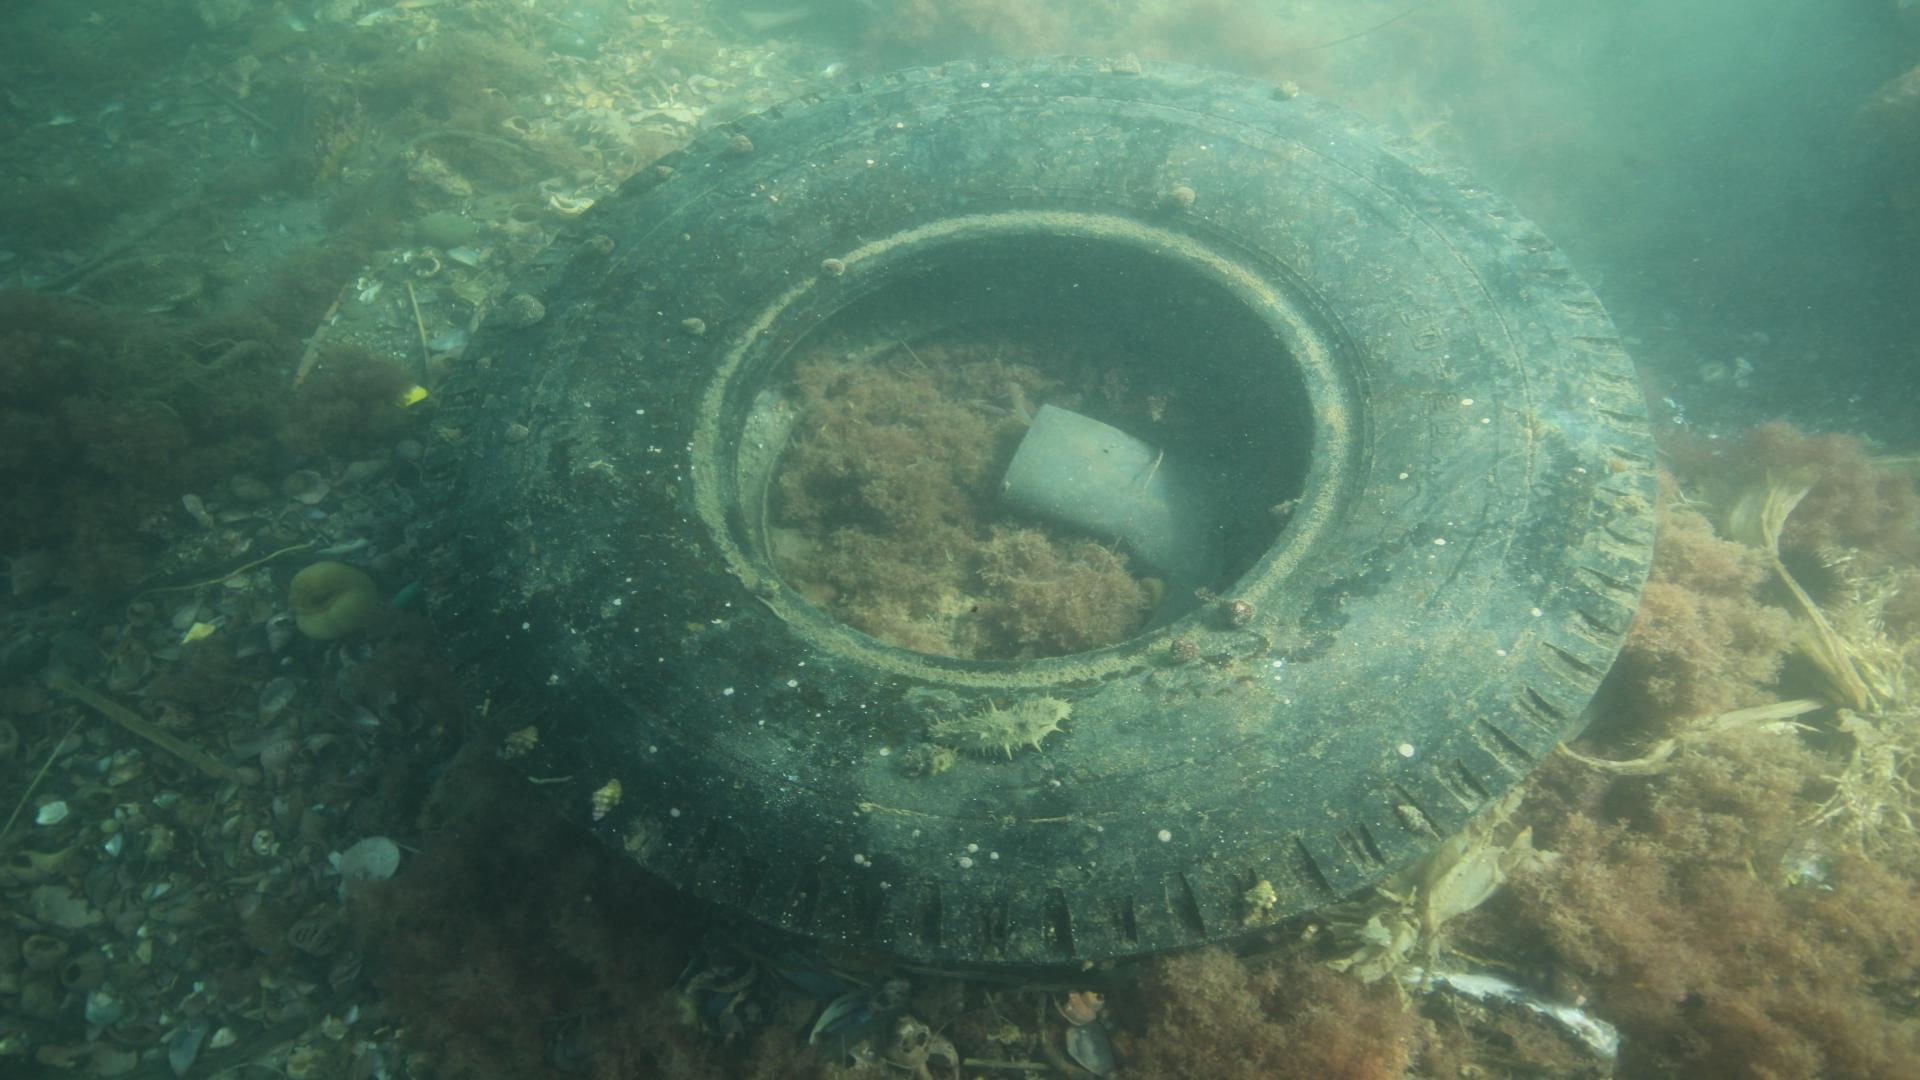tire: (411, 50, 1659, 982)
